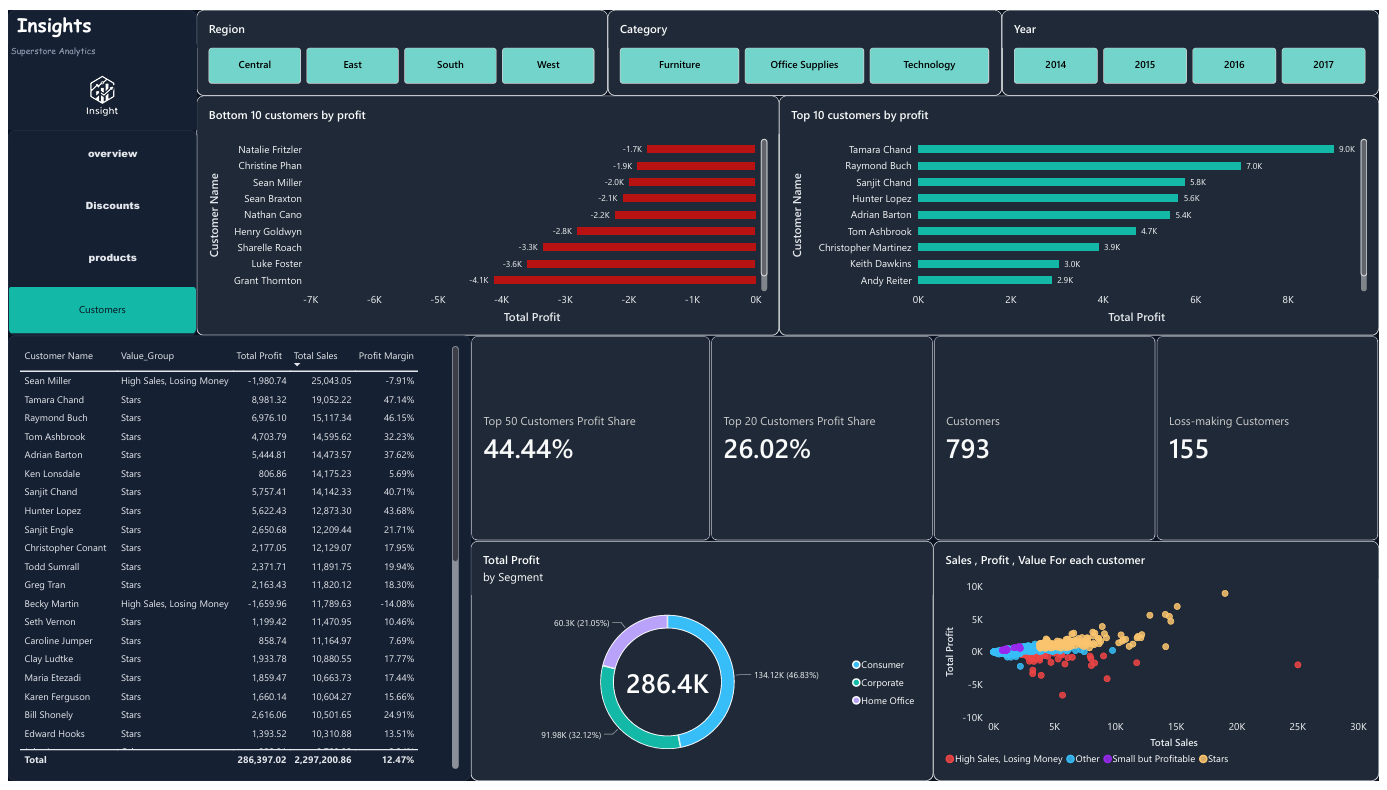

What the dashboard file says about the page in this screenshot:
{"tool":"powerbi","page":{"name":"Customers","canvas":[1920,1080],"ordinal":3},"visuals":[{"type":"cardVisual","fields":{"Data":["dimension customer.Top 50 Customers Profit Share"]},"box":[648,456,336,288],"z":0},{"type":"cardVisual","fields":{"Data":["dimension customer.Top 20 Customers Profit Share"]},"box":[984,456,312,288],"z":1000},{"type":"cardVisual","fields":{"Data":["dimension customer.Loss-making Customers"]},"box":[1608,456,312,288],"z":2000},{"type":"scatterChart","title":"Sales , Profit , Value For each customer","fields":{"Category":["dimension customer.Customer ID"],"Series":["dimension customer.Value_Group"],"X":["Sample - Superstore.Total Sales"],"Y":["Sample - Superstore.Total Profit"]},"box":[1296,744,624,336],"z":3000},{"type":"cardVisual","fields":{"Data":["dimension customer.Customers"]},"box":[1296,456,312,288],"z":4000},{"type":"donutChart","fields":{"Category":["dimension customer.Segment"],"Y":["Sample - Superstore.Total Profit"]},"box":[648,744,648,336],"z":5000},{"type":"barChart","title":"Bottom 10 customers by profit","fields":{"Category":["dimension customer.Customer Name"],"Y":["Sample - Superstore.Total Profit"]},"box":[264,120,816,336],"z":6000},{"type":"barChart","title":"Top 10 customers by profit","fields":{"Category":["dimension customer.Customer Name"],"Y":["Sample - Superstore.Total Profit"]},"box":[1080,120,840,336],"z":7000},{"type":"tableEx","fields":{"Values":["dimension customer.Customer Name","dimension customer.Value_Group","Sample - Superstore.Total Profit","Sample - Superstore.Total Sales","Sample - Superstore.Profit Margin"]},"box":[0,456,648,624],"z":8000},{"type":"advancedSlicerVisual","fields":{"Values":["dimension product.Category"]},"box":[840,0,552,120],"z":9000},{"type":"advancedSlicerVisual","fields":{"Values":["dimension date.Year"]},"box":[1392,0,528,120],"z":10000},{"type":"advancedSlicerVisual","fields":{"Values":["Sample - Superstore.Region"]},"box":[264,0,576,120],"z":11000},{"type":"pageNavigator","box":[0,168,264,288],"z":12000},{"type":"textbox","box":[0,0,264,72],"z":13000},{"type":"image","box":[0,72,264,96],"z":14000},{"type":"textbox","box":[0,48,264,24],"z":15000}]}

Visuals, with their boxes on the page's 1920x1080 design canvas (x1, y1, x2, y2). These are canvas units, not pixel positions in the 1387x790 screenshot, which may show the page scaled, cropped or inside an application window:
cardVisual - dimension customer.Top 50 Customers Profit Share: crop(648, 456, 984, 744)
cardVisual - dimension customer.Top 20 Customers Profit Share: crop(984, 456, 1296, 744)
cardVisual - dimension customer.Loss-making Customers: crop(1608, 456, 1920, 744)
"Sales , Profit , Value For each customer" scatterChart: crop(1296, 744, 1920, 1080)
cardVisual - dimension customer.Customers: crop(1296, 456, 1608, 744)
donutChart - dimension customer.Segment x Sample - Superstore.Total Profit: crop(648, 744, 1296, 1080)
"Bottom 10 customers by profit" barChart: crop(264, 120, 1080, 456)
"Top 10 customers by profit" barChart: crop(1080, 120, 1920, 456)
tableEx - dimension customer.Customer Name x dimension customer.Value_Group: crop(0, 456, 648, 1080)
advancedSlicerVisual - dimension product.Category: crop(840, 0, 1392, 120)
advancedSlicerVisual - dimension date.Year: crop(1392, 0, 1920, 120)
advancedSlicerVisual - Sample - Superstore.Region: crop(264, 0, 840, 120)
pageNavigator: crop(0, 168, 264, 456)
textbox: crop(0, 0, 264, 72)
image: crop(0, 72, 264, 168)
textbox: crop(0, 48, 264, 72)
